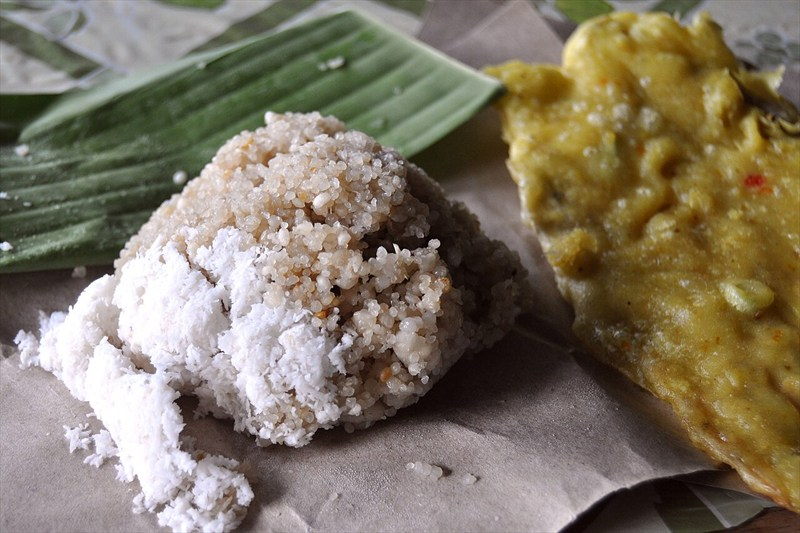Tempe Goreng: (47, 79, 733, 503)
